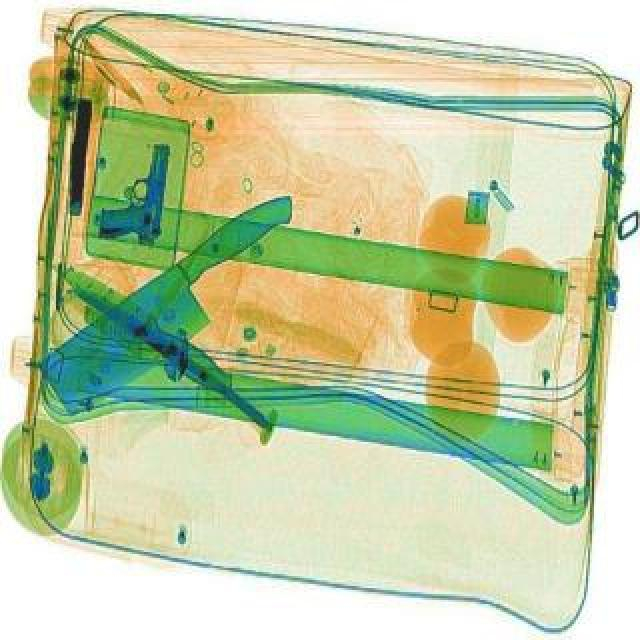gun: (96, 142, 170, 252), (60, 104, 92, 220)
knife: (26, 188, 330, 426), (64, 284, 276, 434), (32, 254, 240, 406)
